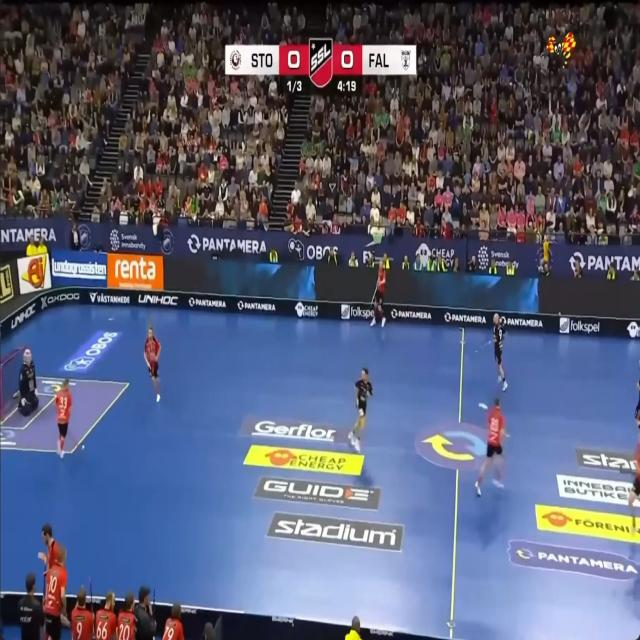Balls: (81, 445, 85, 452)
player: (475, 399, 505, 496), (43, 545, 67, 639), (348, 368, 373, 452), (17, 350, 38, 416), (55, 379, 72, 458), (370, 254, 387, 326), (70, 586, 93, 639), (145, 325, 161, 401), (492, 312, 507, 390), (628, 441, 640, 531), (95, 591, 116, 639), (38, 523, 58, 572), (117, 592, 135, 639), (162, 604, 184, 639), (634, 379, 640, 428), (638, 431, 640, 442)
stick: (475, 339, 492, 352), (370, 279, 378, 304), (89, 577, 93, 610)
